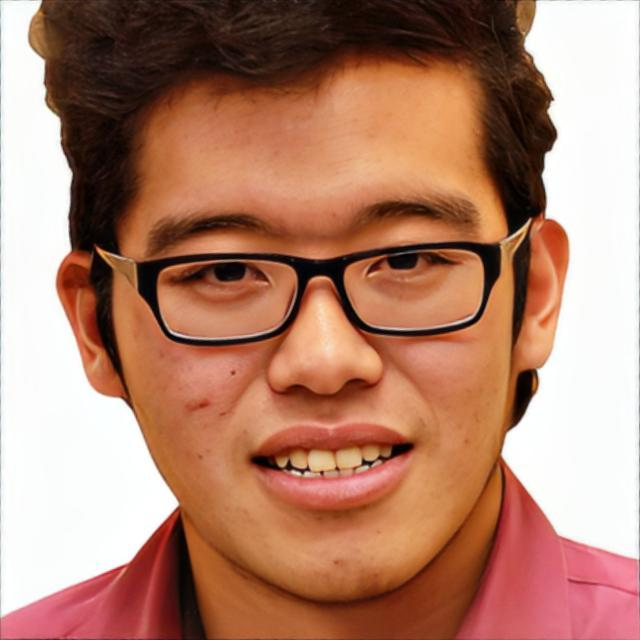disgust: (113, 41, 512, 604)
